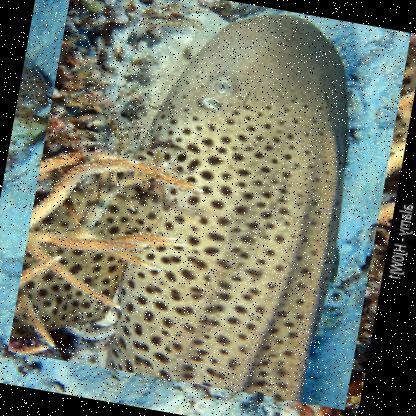zebra_shark: (6, 0, 411, 412)
